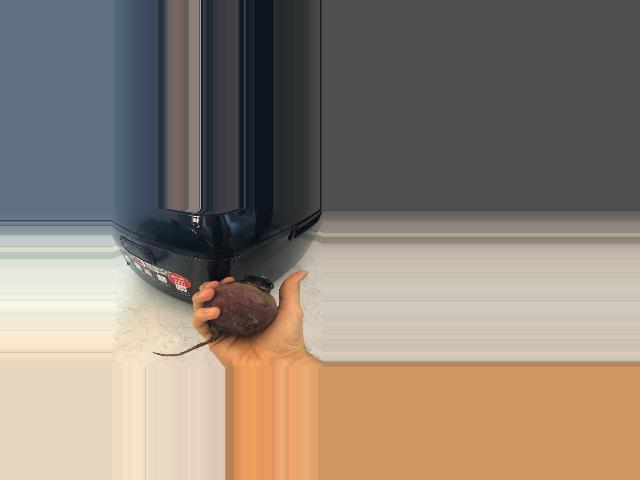beet: (152, 275, 276, 357)
